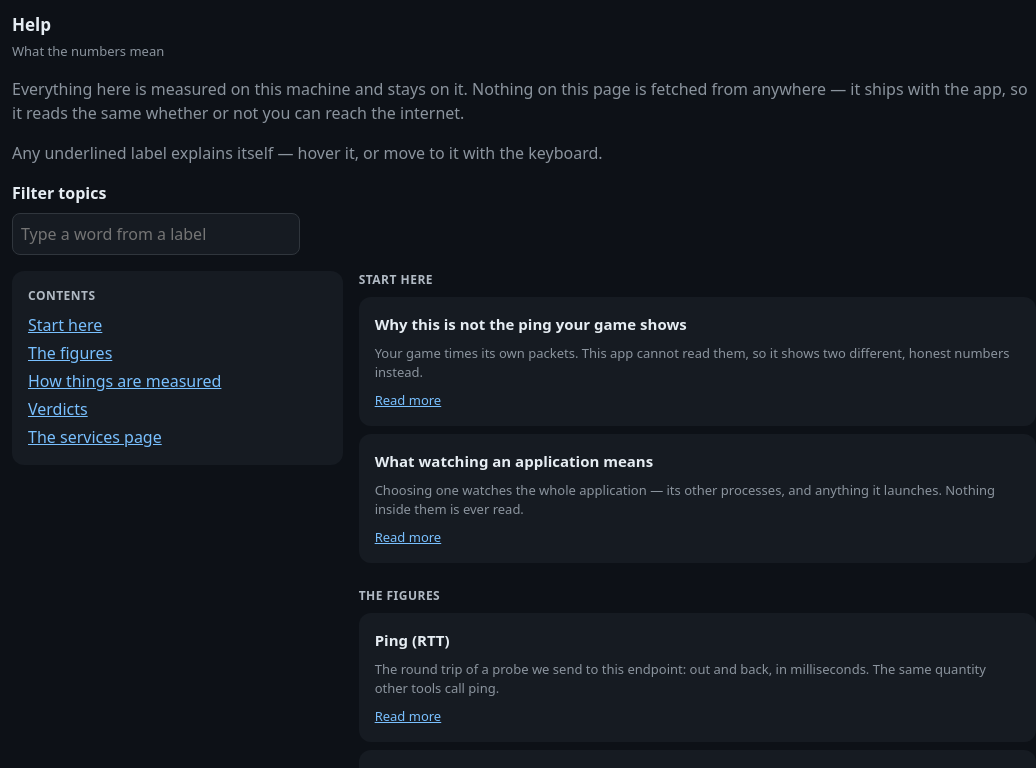
HelpPage › says a filter matched nothing rather than looking broken
Type "zzzzz" into the search field labelled "Filter topics" at (156, 234), box [12,213,300,255]
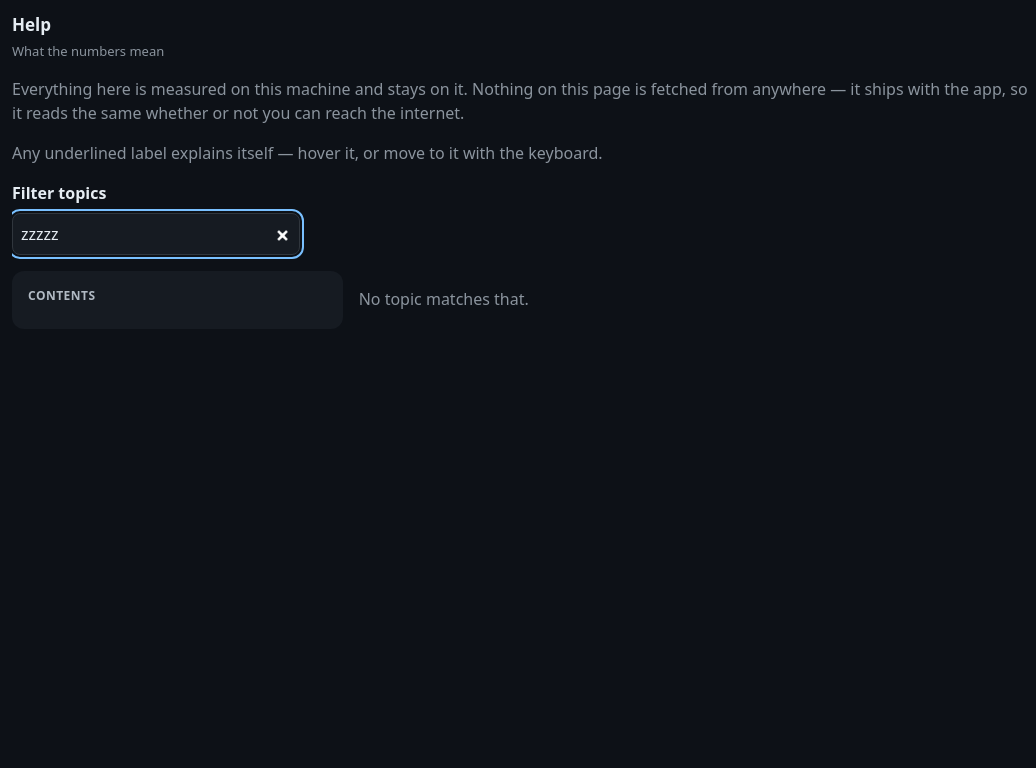
Now the text "No topic matches that." is shown, box [359,288,529,310]
Now no the heading "Start here" are shown
